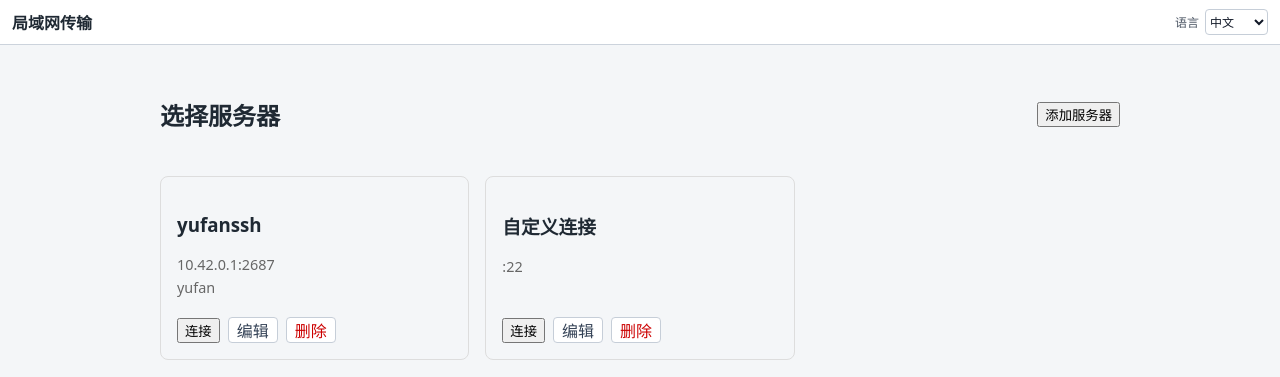
Test: App shell › can switch the launcher language to English
Select "English" in the dropdown labelled "语言" at (1236, 22), box [1205,9,1268,35]
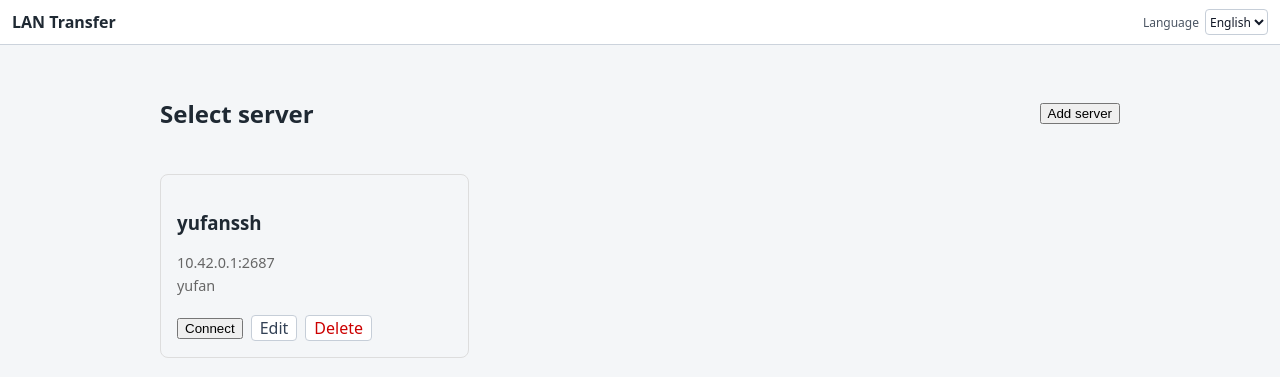
Expected: the element that starts with "LAN Transfer" is shown, [12,11,116,33]
Expected: the heading "Select server" is shown, [160,97,314,130]
